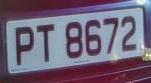2: (118, 11, 141, 55)
6: (83, 16, 104, 59)
7: (99, 14, 122, 55)
8: (63, 16, 85, 66)
P: (12, 23, 37, 70)
T: (35, 21, 59, 68)
